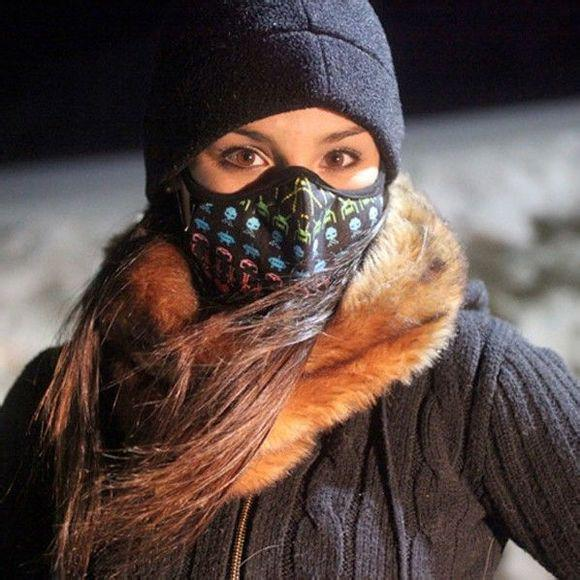OK: (195, 107, 375, 287)
